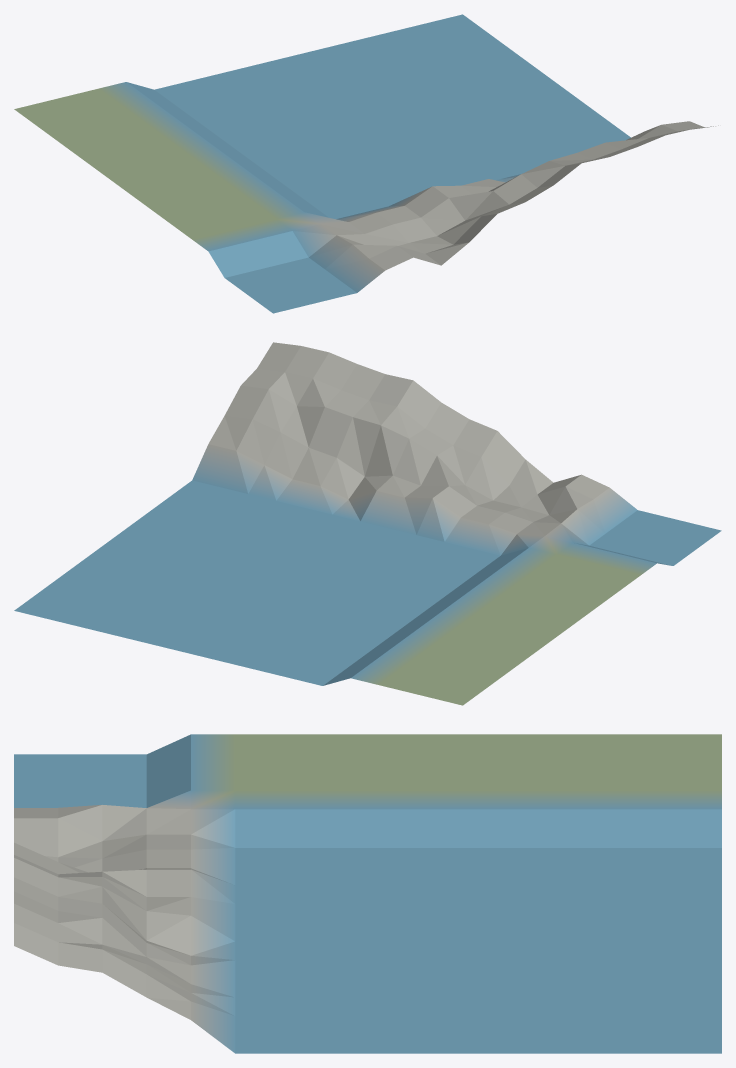
The picture shows the model from 3 angles, top to bottom: view 1: azimuth 30°, elevation 25°; view 2: azimuth 150°, elevation 25°; view 3: azimuth 270°, elevation 25°; orthographic projection. The views are drawn at different scales.
Size of the model in its own units: 32 by 5.62 by 32.
